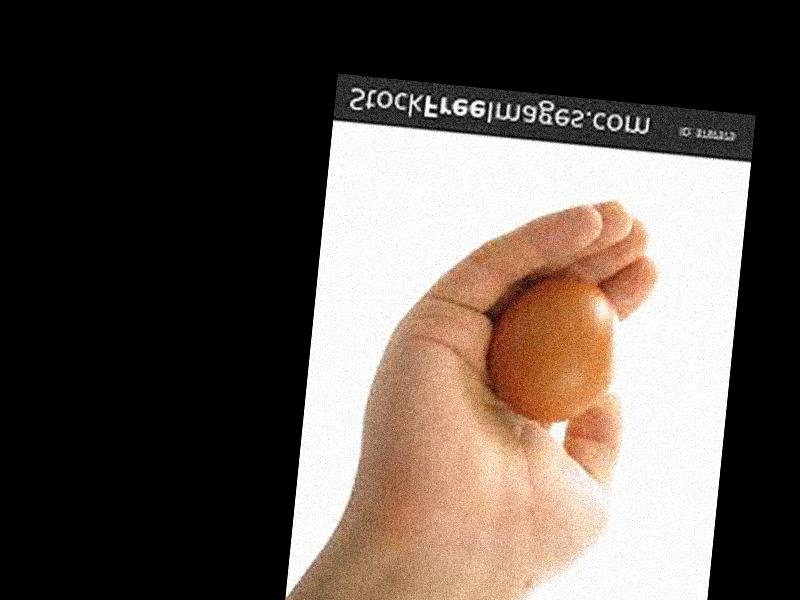Eggs: (486, 260, 624, 429)
